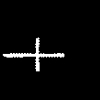single_crochet: (3, 38, 63, 70)
